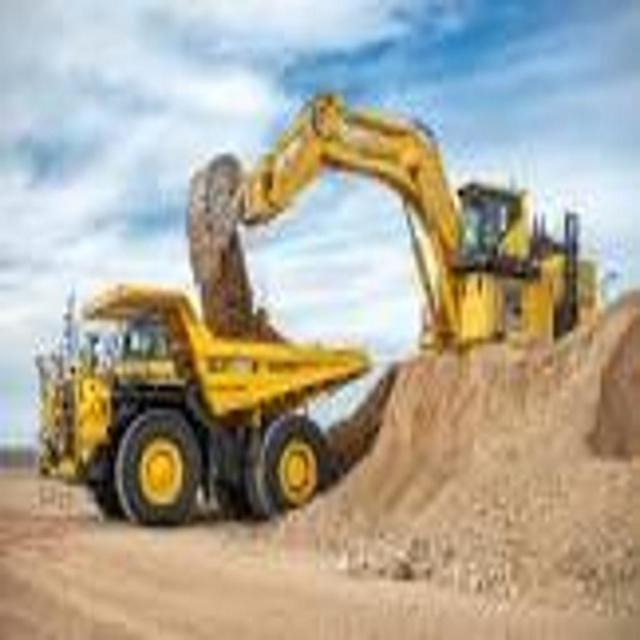dump_truck: (34, 276, 372, 539)
